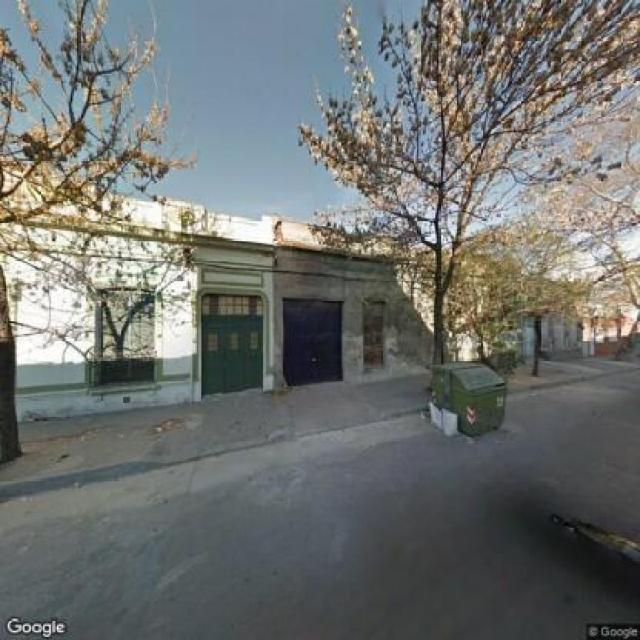garbage: (414, 395, 470, 440)
